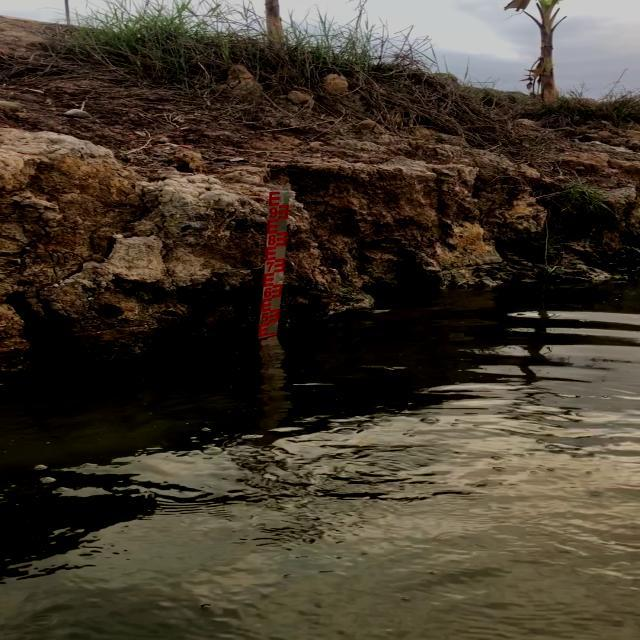ruler: (252, 185, 296, 344)
value: (266, 232, 278, 249), (268, 206, 280, 222), (264, 260, 276, 275), (263, 285, 275, 299), (260, 311, 271, 325)
